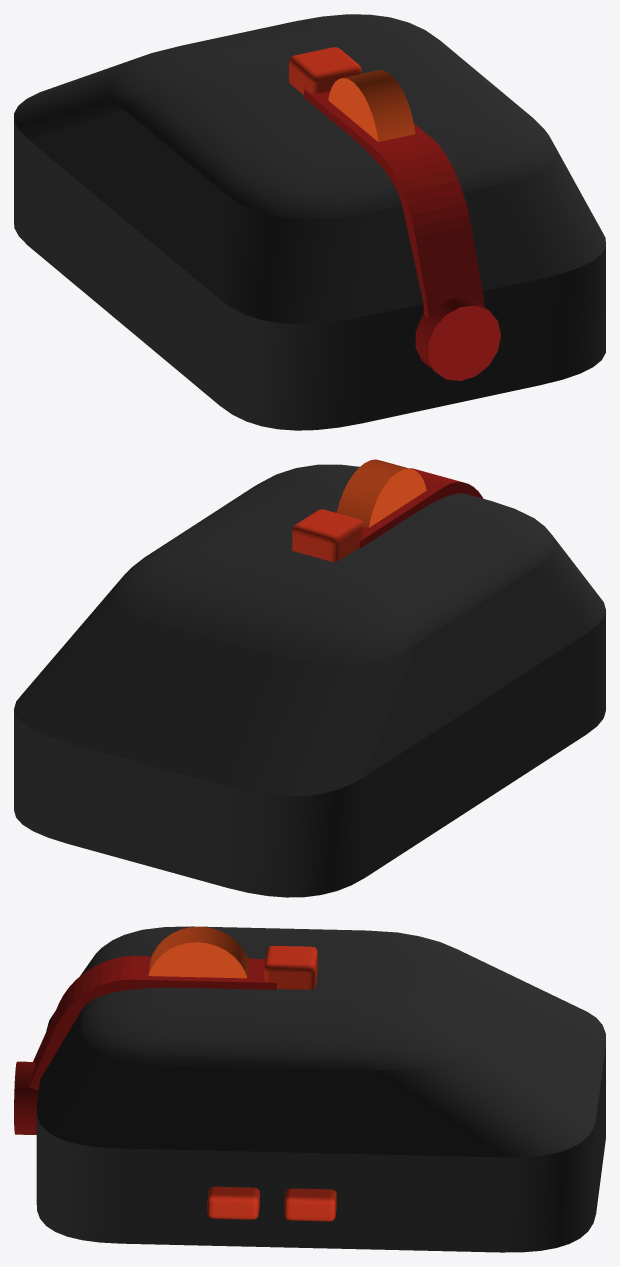
File: computer mouse.fbx
The picture shows the model from 3 angles, top to bottom: view 1: azimuth 30°, elevation 25°; view 2: azimuth 150°, elevation 25°; view 3: azimuth 270°, elevation 25°; orthographic projection. The views are drawn at different scales.
Visible parts, largest first — view 1: Cube (×2), MainBody, Spline 2D, Cylinder (×2); view 2: Cube (×2), MainBody, Cylinder, Spline 2D; view 3: Cube (×4), MainBody, Spline 2D, Cylinder (×2).
Part boxes in pixels (bbox=[...]): Cube (×2): bbox=[14, 14, 605, 324]; MainBody: bbox=[14, 118, 605, 430]; Spline 2D: bbox=[304, 89, 484, 316]; Cylinder (×2): bbox=[328, 70, 500, 380]; Cube (×2): bbox=[14, 464, 605, 796]; MainBody: bbox=[14, 610, 605, 897]; Cylinder: bbox=[337, 459, 426, 527]; Spline 2D: bbox=[334, 468, 483, 548]; Cube (×4): bbox=[36, 926, 605, 1221]; MainBody: bbox=[36, 1044, 605, 1252]; Spline 2D: bbox=[29, 956, 276, 1089]; Cylinder (×2): bbox=[14, 926, 249, 1134].
Size of the model in its own units: 0.0796 by 0.0498 by 0.1152.
